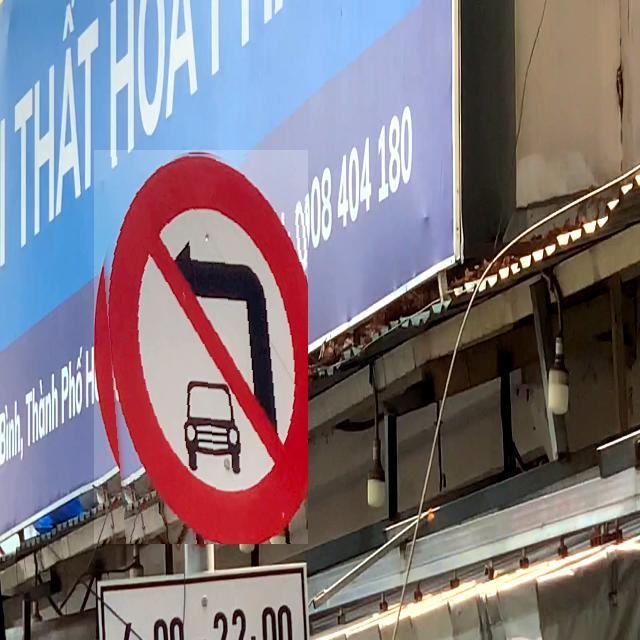P-103c: (94, 151, 308, 545)
